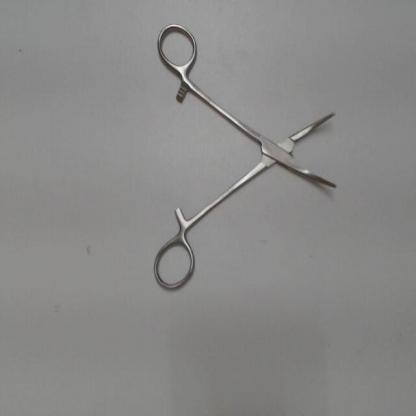Crile Artery Forceps: (146, 17, 346, 298)
